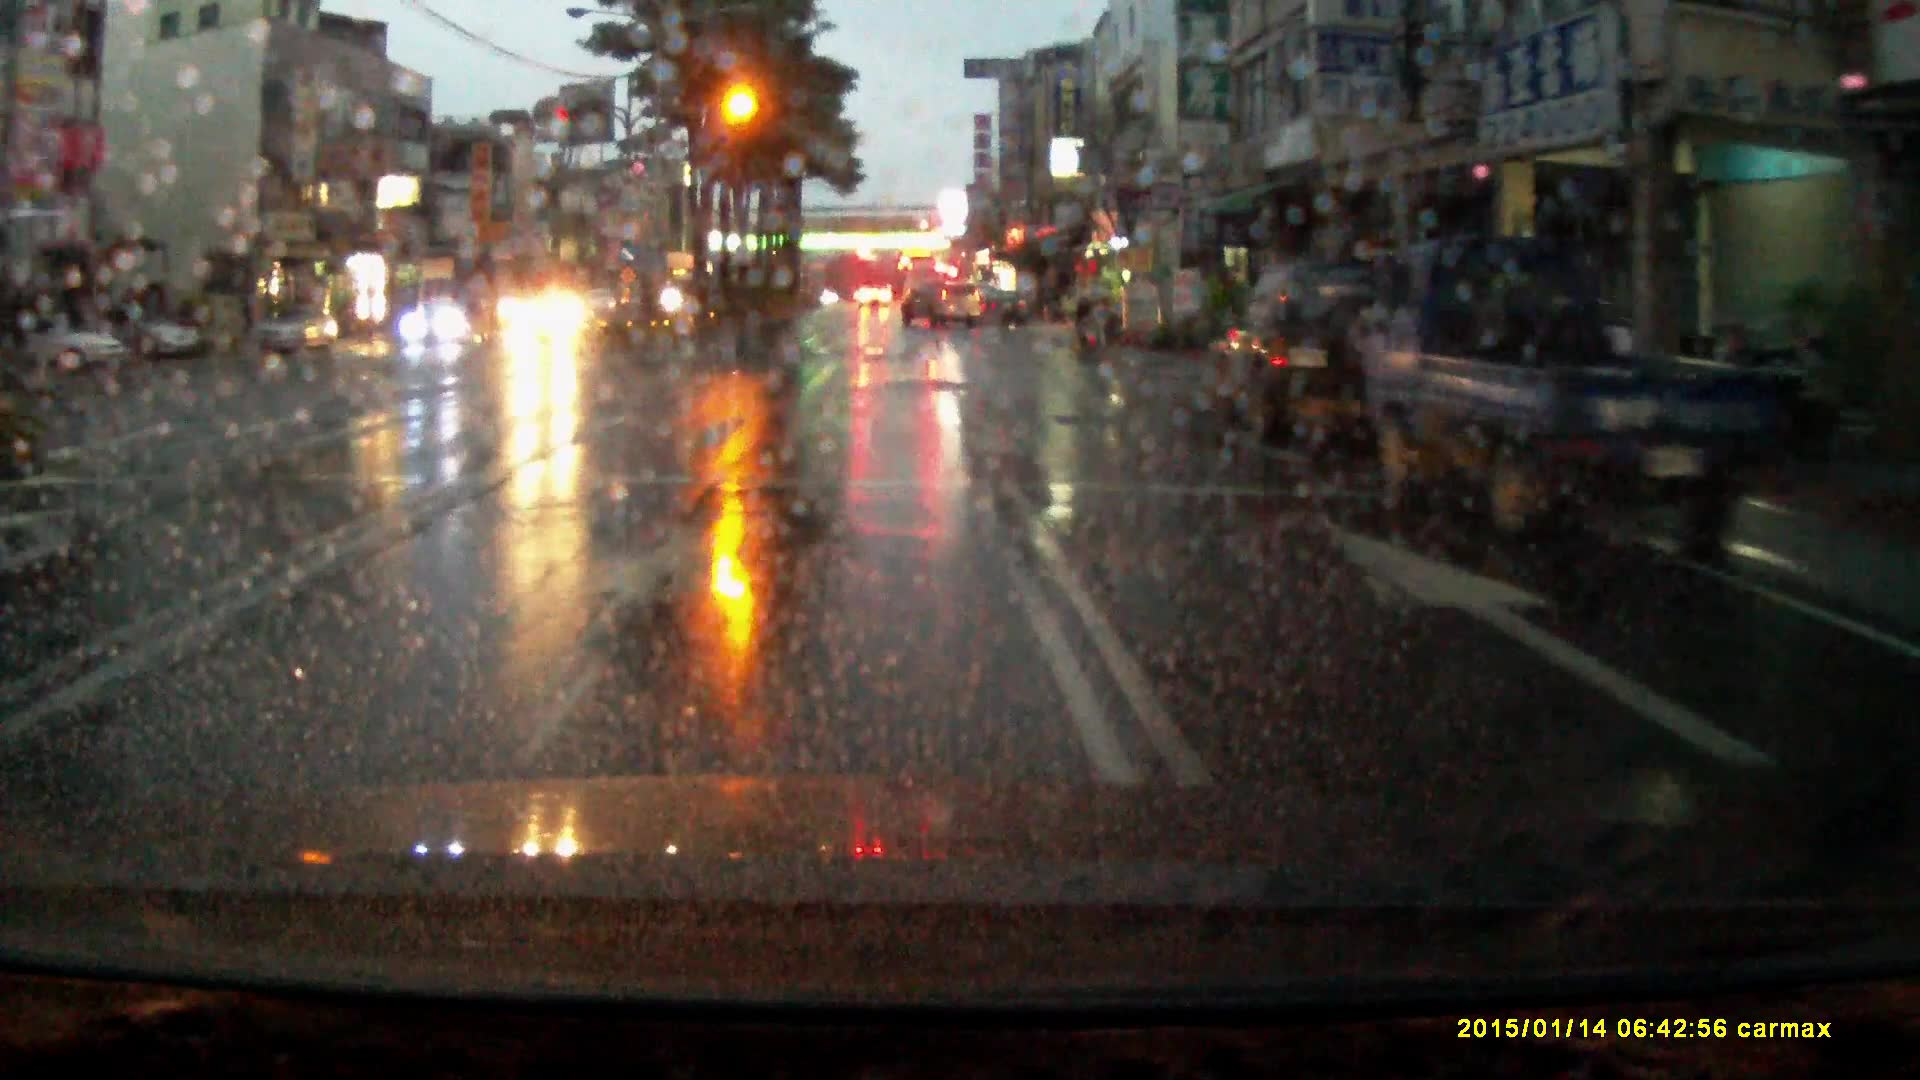vehicle: (1370, 232, 1782, 550), (1220, 255, 1400, 447), (1, 309, 124, 378), (513, 286, 593, 353), (251, 299, 339, 357), (898, 280, 981, 330), (137, 305, 207, 361), (400, 301, 473, 348), (982, 290, 1031, 330), (901, 258, 939, 309), (856, 282, 894, 310)
